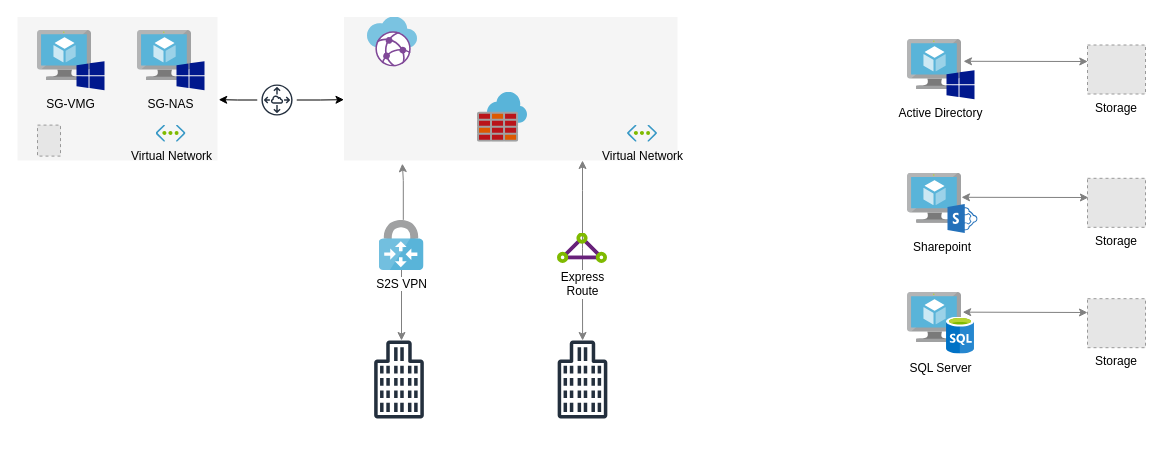
This 1163x457 diagram has some shape labels left out. Grey dashed boxes stand in for pictures. The box of each missing label's shape, as (x1, y1, x2, y2) in pixels:
Peering: (256, 80, 296, 120)
SG on-premise: (374, 340, 424, 418)
TW on-premise: (557, 340, 607, 418)
VWAN VirtualHub: (367, 16, 417, 66)
